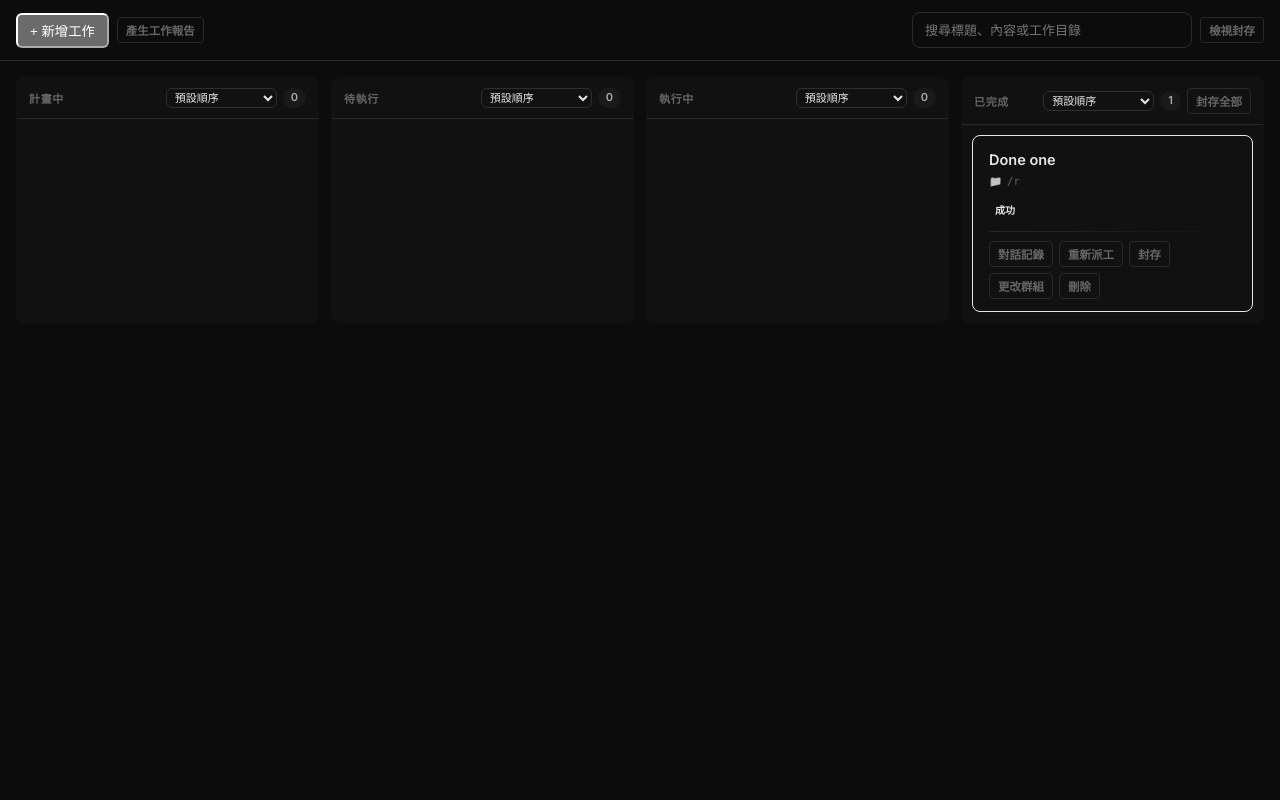
it: ProjectBoard › collapses consecutive duplicate lines in the raw terminal output
The image size is (1280, 800).
Click the button "對話記錄" at x=1021, y=254, box [989, 241, 1053, 267]
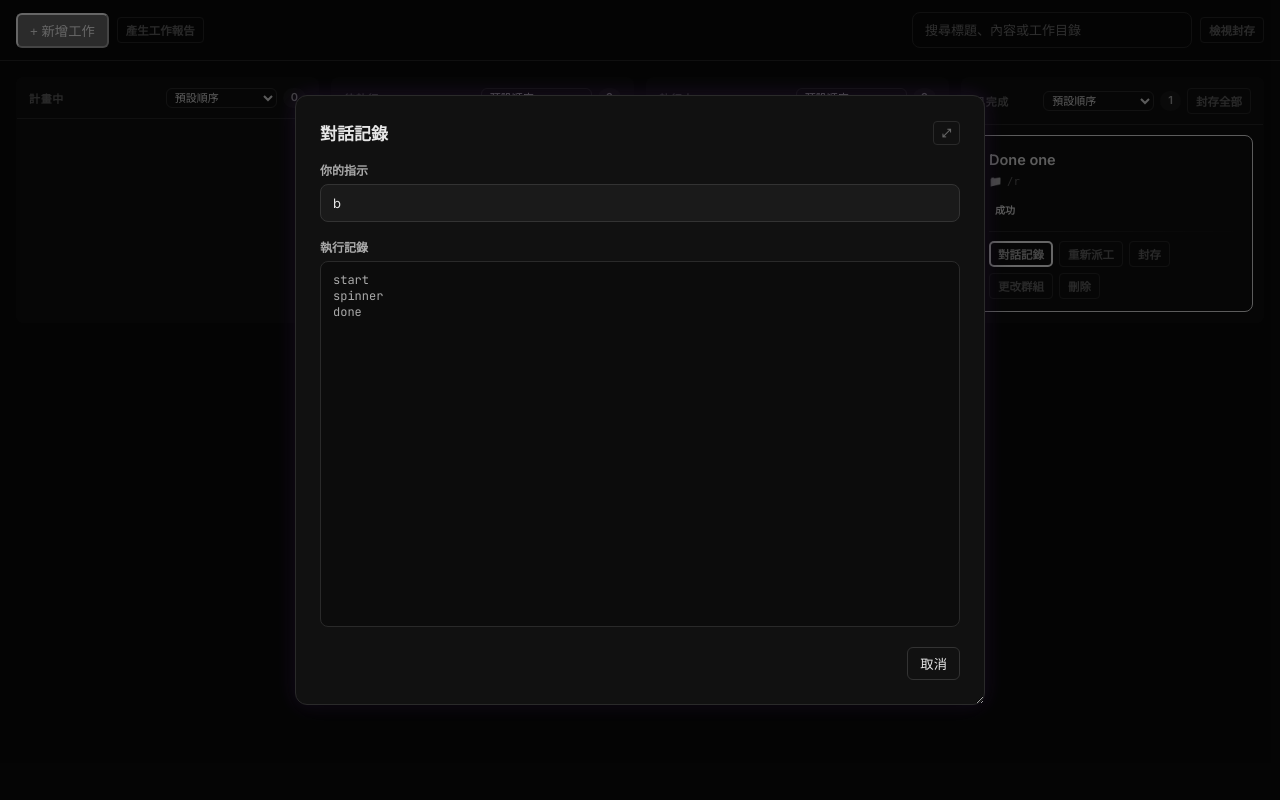
Now the text with test id "task-transcript-raw" shows "start", box [333, 272, 383, 320]
Now the text with test id "task-transcript-raw" shows "done", box [333, 272, 383, 320]
